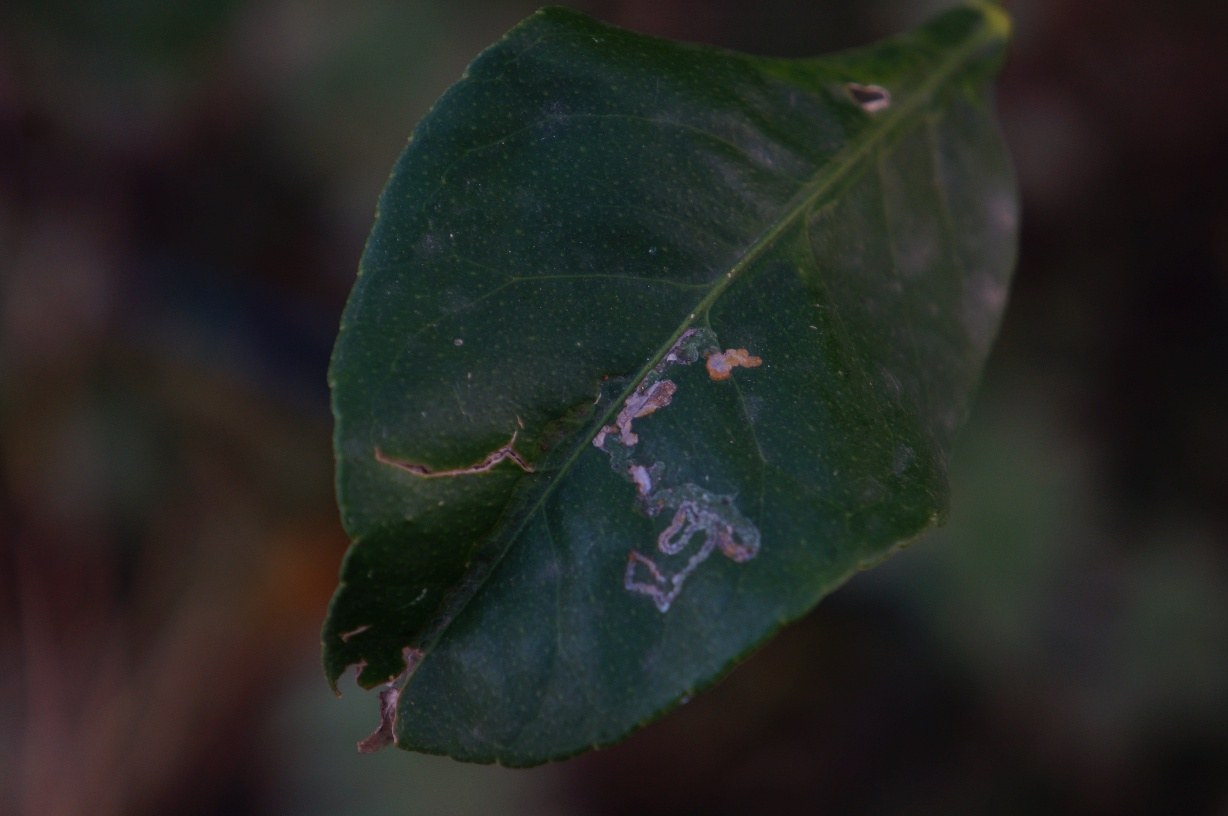damage: (594, 304, 776, 625)
